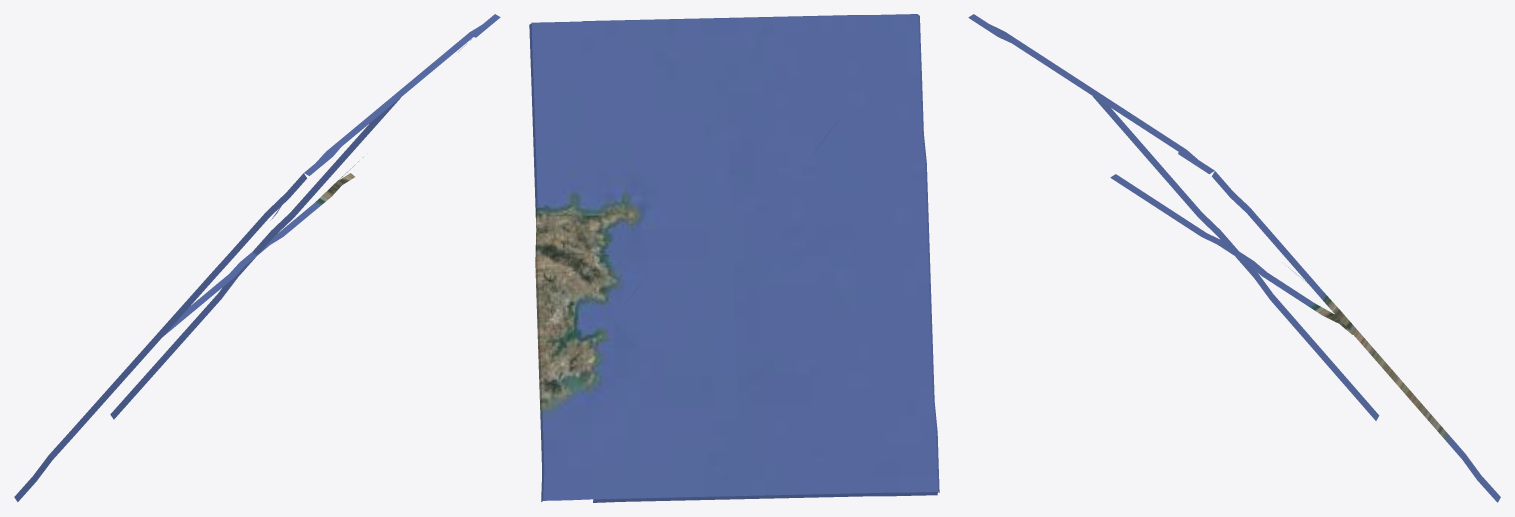
3 views of the same model, side by side, from view 1: azimuth 30°, elevation 25°; view 2: azimuth 150°, elevation 25°; view 3: azimuth 270°, elevation 25° (orthographic). The views are drawn at different scales.
Bounding box in the file's own units: 158388 × 126903 × 149700.
1 material, 1 textured.
